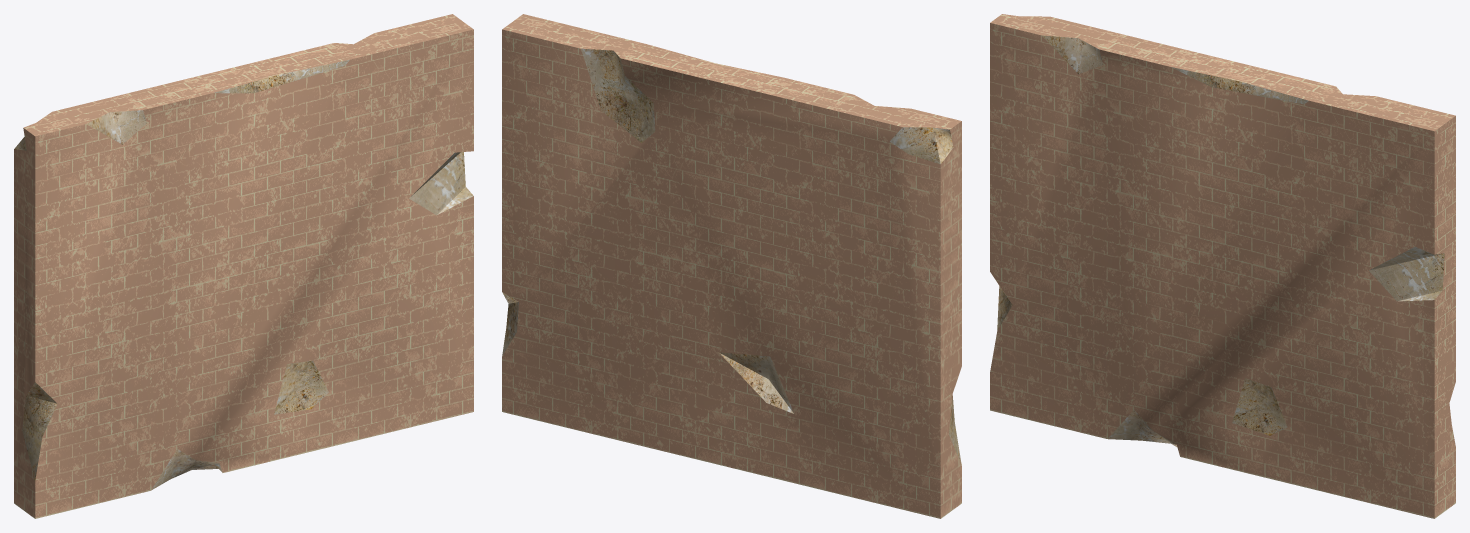
Rendered from SM_Wall_01_Damaged.FBX.
The picture shows the model from 3 angles, left to right: view 1: azimuth 30°, elevation 25°; view 2: azimuth 150°, elevation 25°; view 3: azimuth 330°, elevation 25°; orthographic projection.
Visible parts, largest first — view 1: SM_Wall_01; view 2: SM_Wall_01; view 3: SM_Wall_01.
Part boxes in pixels (x1,y1,x2,y2): SM_Wall_01: (14, 14, 473, 518); SM_Wall_01: (502, 14, 961, 518); SM_Wall_01: (990, 14, 1455, 518).
Bounding box in the file's own units: 6 × 5 × 0.5.
